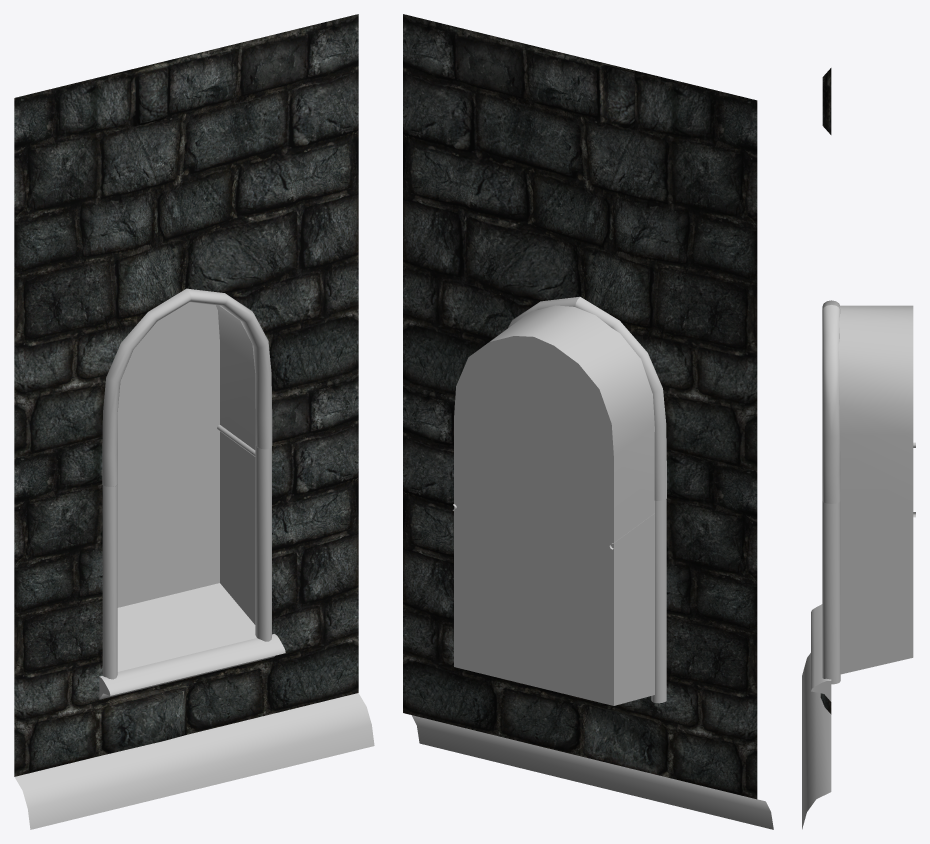
The model's file is square_brick_window_large_blue.dae.
3 views of the same model, side by side, from view 1: azimuth 30°, elevation 25°; view 2: azimuth 150°, elevation 25°; view 3: azimuth 270°, elevation 25° (orthographic). The views are drawn at different scales.
Visible parts, largest first — view 1: polySurface181, polySurface182, polySurface179, polySurface178, polySurface180; view 2: polySurface181, polySurface182, polySurface178, polySurface179, polySurface180; view 3: polySurface179, polySurface180, polySurface181.
Boxes of the visible parts, x1,y1,x2,y2 form: polySurface181: [14, 14, 358, 457]; polySurface182: [14, 374, 358, 776]; polySurface179: [99, 288, 285, 699]; polySurface178: [117, 302, 219, 607]; polySurface180: [14, 693, 374, 829]; polySurface181: [403, 14, 757, 470]; polySurface182: [403, 385, 757, 799]; polySurface178: [454, 336, 613, 705]; polySurface179: [453, 296, 666, 705]; polySurface180: [411, 715, 773, 829]; polySurface179: [811, 300, 915, 701]; polySurface180: [802, 653, 831, 829]; polySurface181: [822, 68, 831, 134].
Size of what is drawn, in the model's own units: 400 by 800 by 125.
